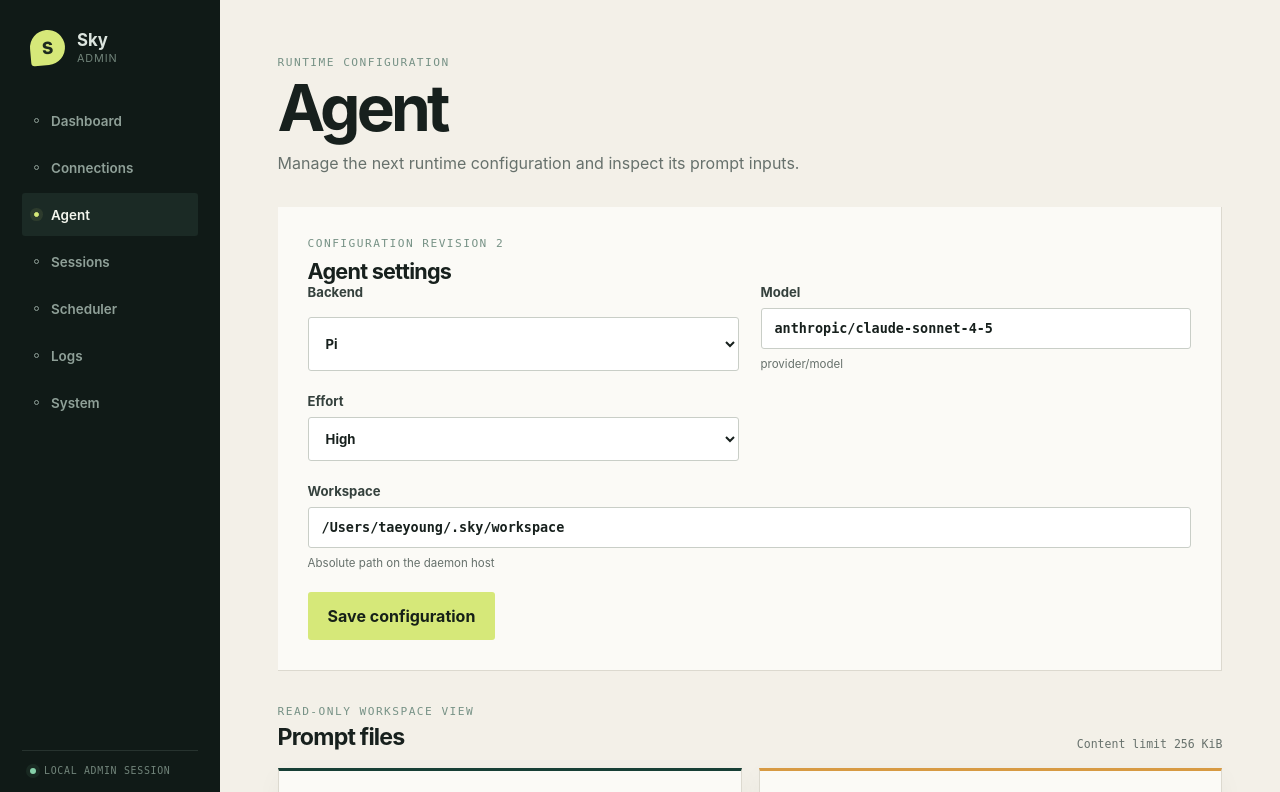
Scenario: loads the latest values after a revision conflict and lets the user reapply
Click the button "Save configuration".
click(402, 616)  # box [308, 592, 495, 640]
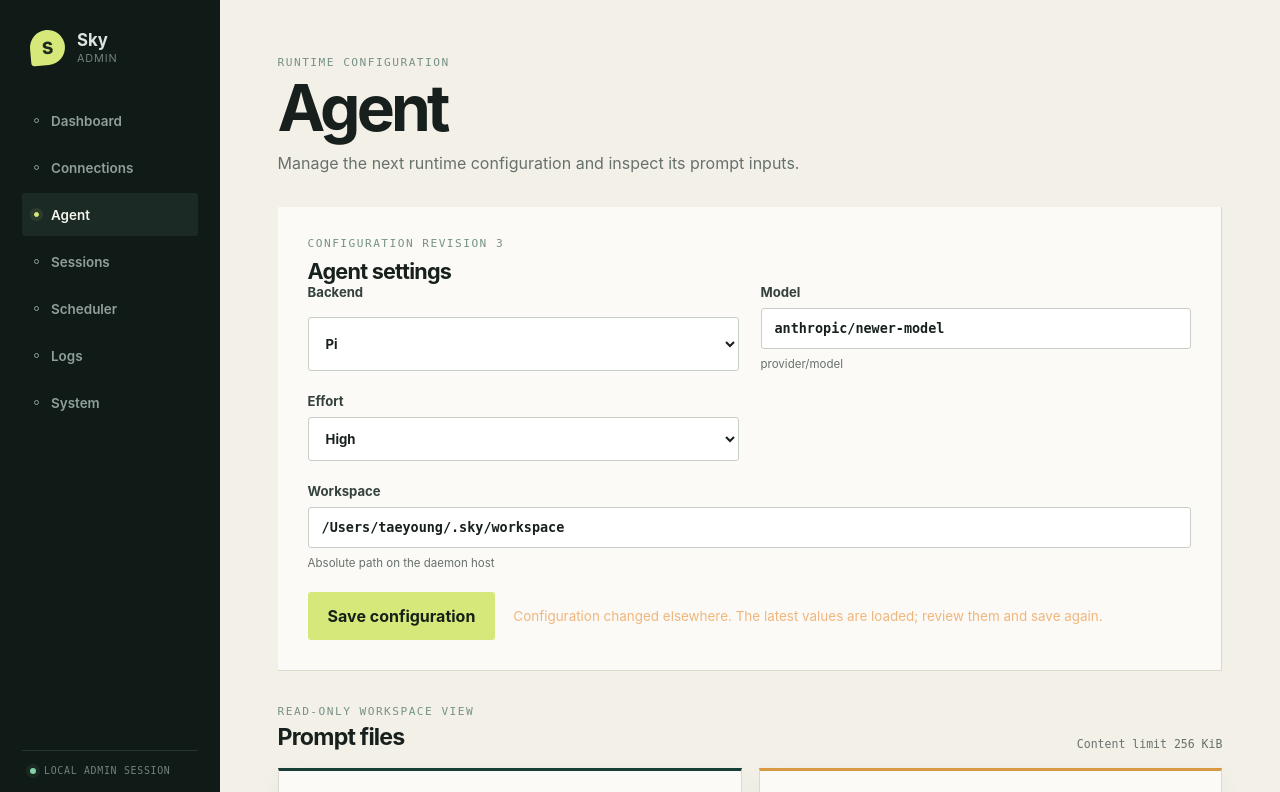
Expected: the message shows "latest values are loaded", [513, 608, 1103, 624]
Expected: the field labelled "Model" holds "anthropic/newer-model", [760, 308, 1191, 349]
Click the button "Save configuration".
click(402, 616)  # box [308, 592, 495, 640]
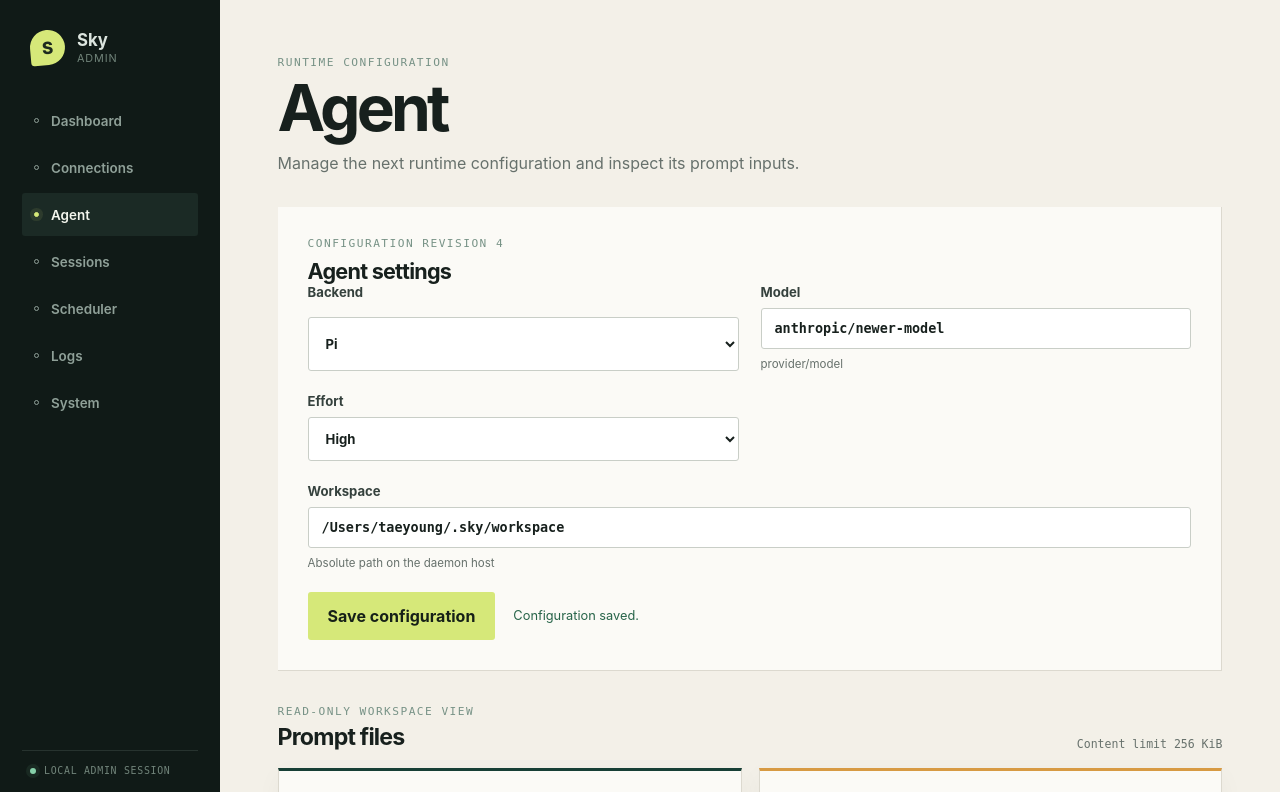
Expected: the message shows "Configuration saved", [513, 608, 639, 623]
